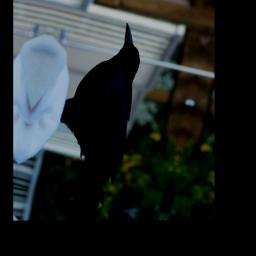Crow: (45, 13, 154, 207)
